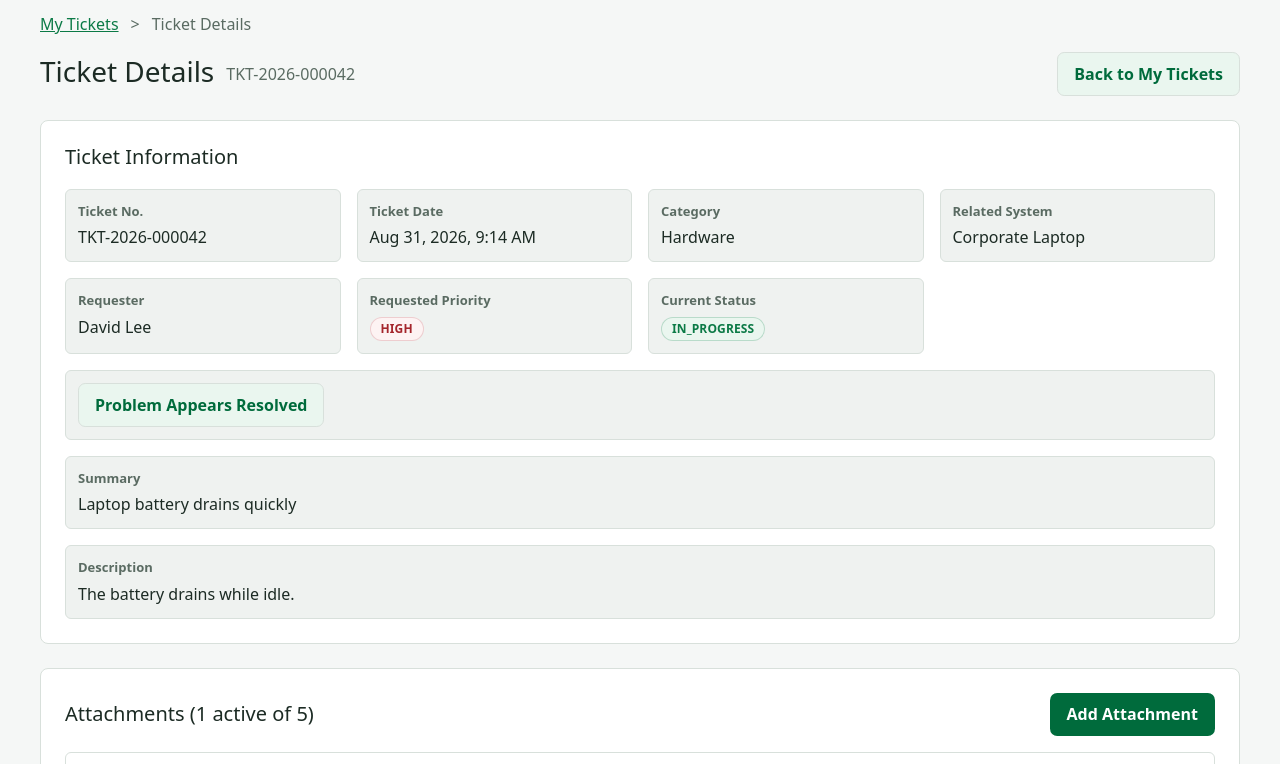
RequesterTicketDetail › submits a versioned advisory resolution indication without changing status
What coordinates should you click on to do the following:
click the button "Problem Appears Resolved"
I would click on:
 (201, 405)
Its box is [78,383,324,427].
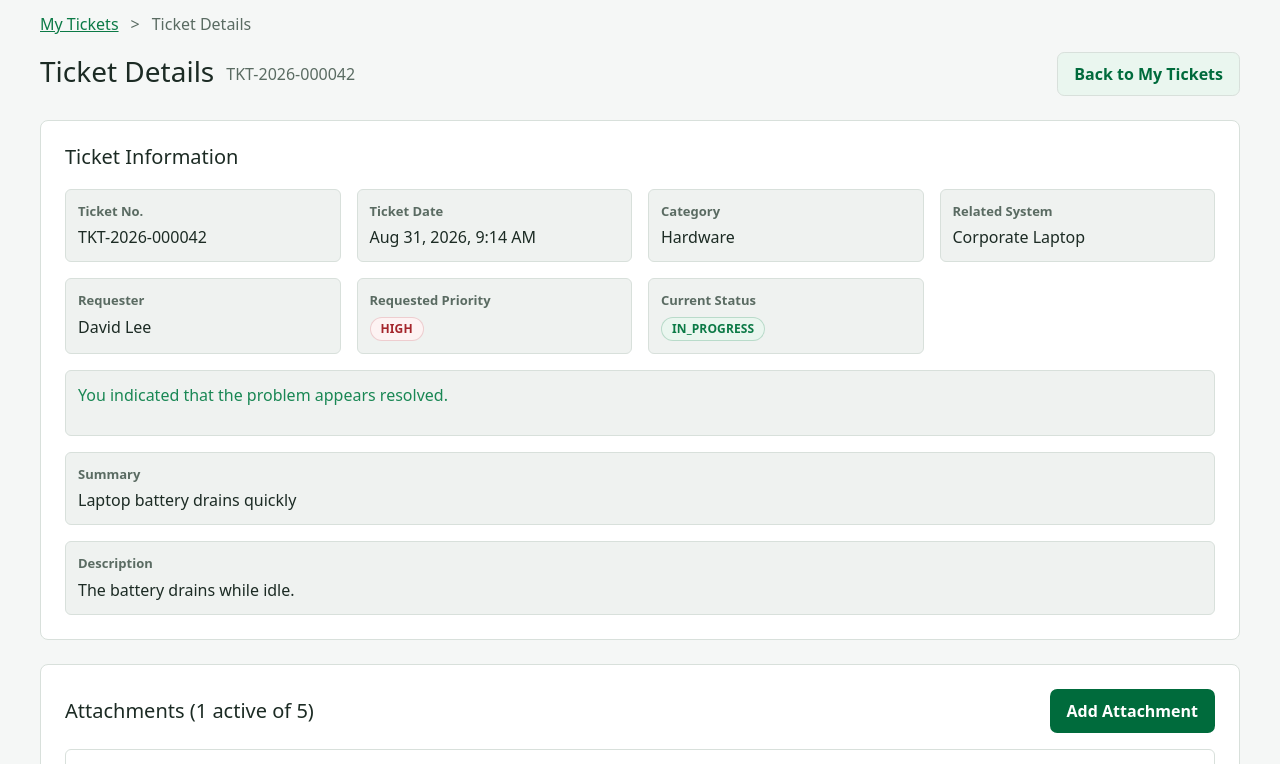
Expected: the text "You indicated that the problem appears resolved." is shown, [78,384,448,406]
